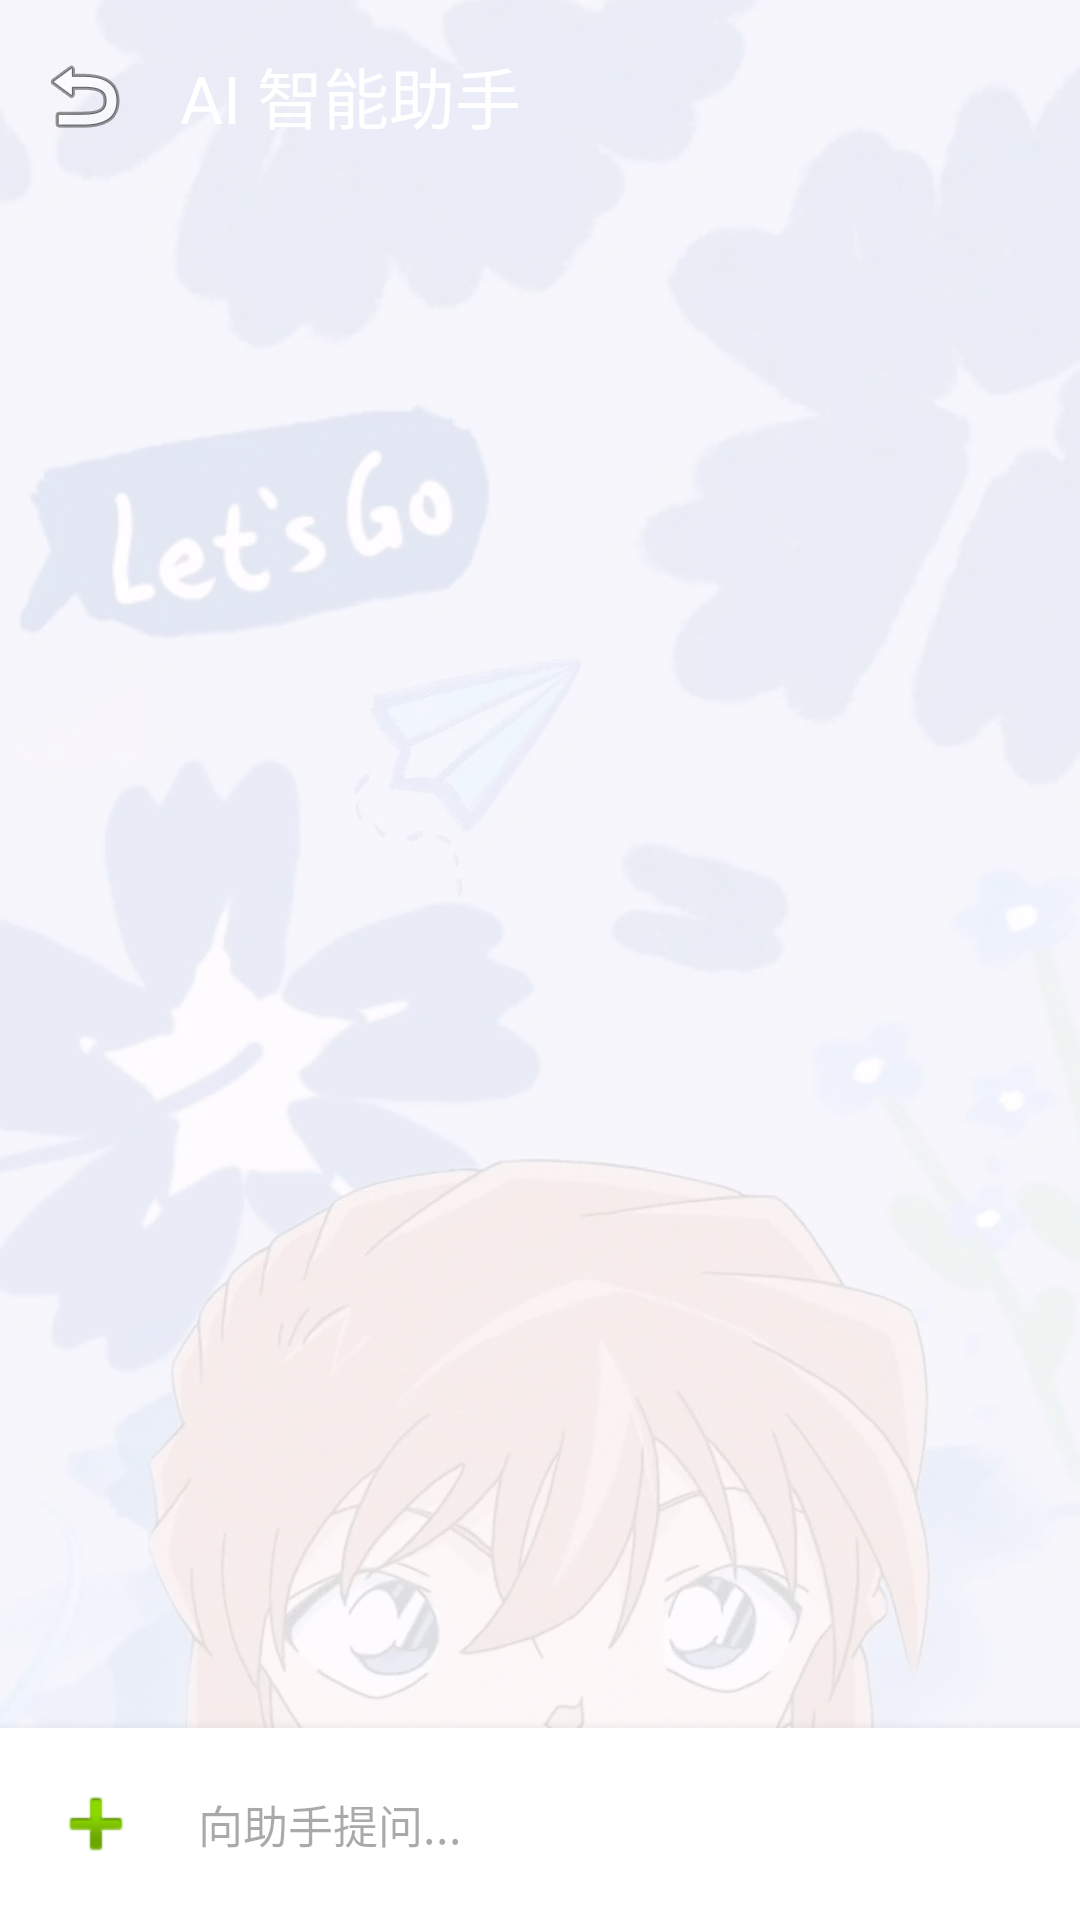

Named icons in this screenshot (1080 x 1920) and their centers, (x,y):
add: (96,1824)
